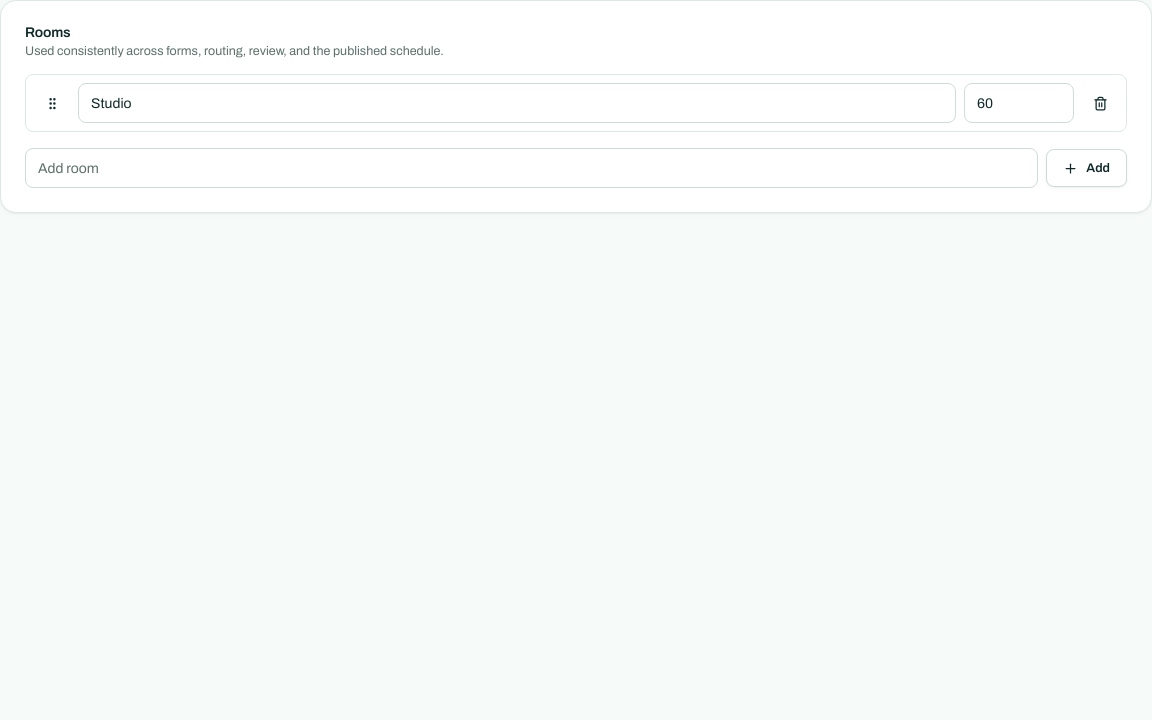
Test case: vocabulary delete confirmation copy › describes what a room delete actually costs, not the track/format boilerplate
This screenshot has width=1152, height=720.
Click the button named "Remove Studio".
click(1100, 103)  # box [1082,85,1118,121]
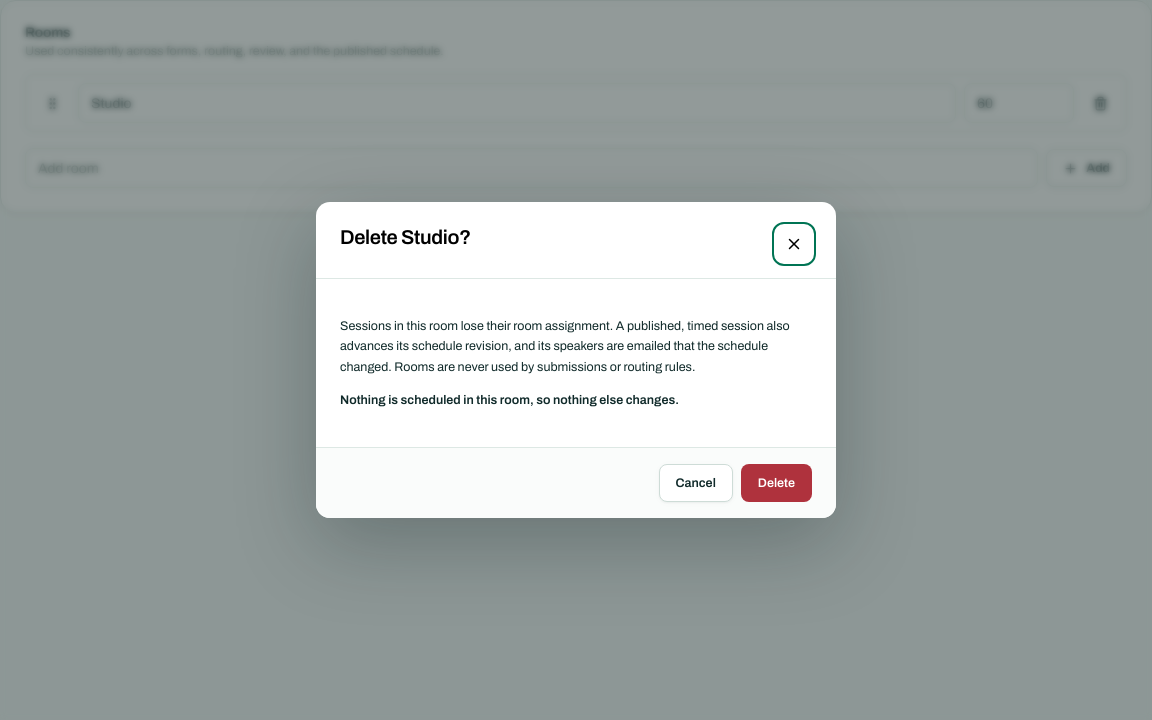
Result: the element with class "long-copy" shows "lose their room assignment" at [340,318,790,374]
Result: the element with class "long-copy" shows "schedule revision" at [340,318,790,374]
Result: the element with class "long-copy" shows "emailed that the schedule changed" at [340,318,790,374]
